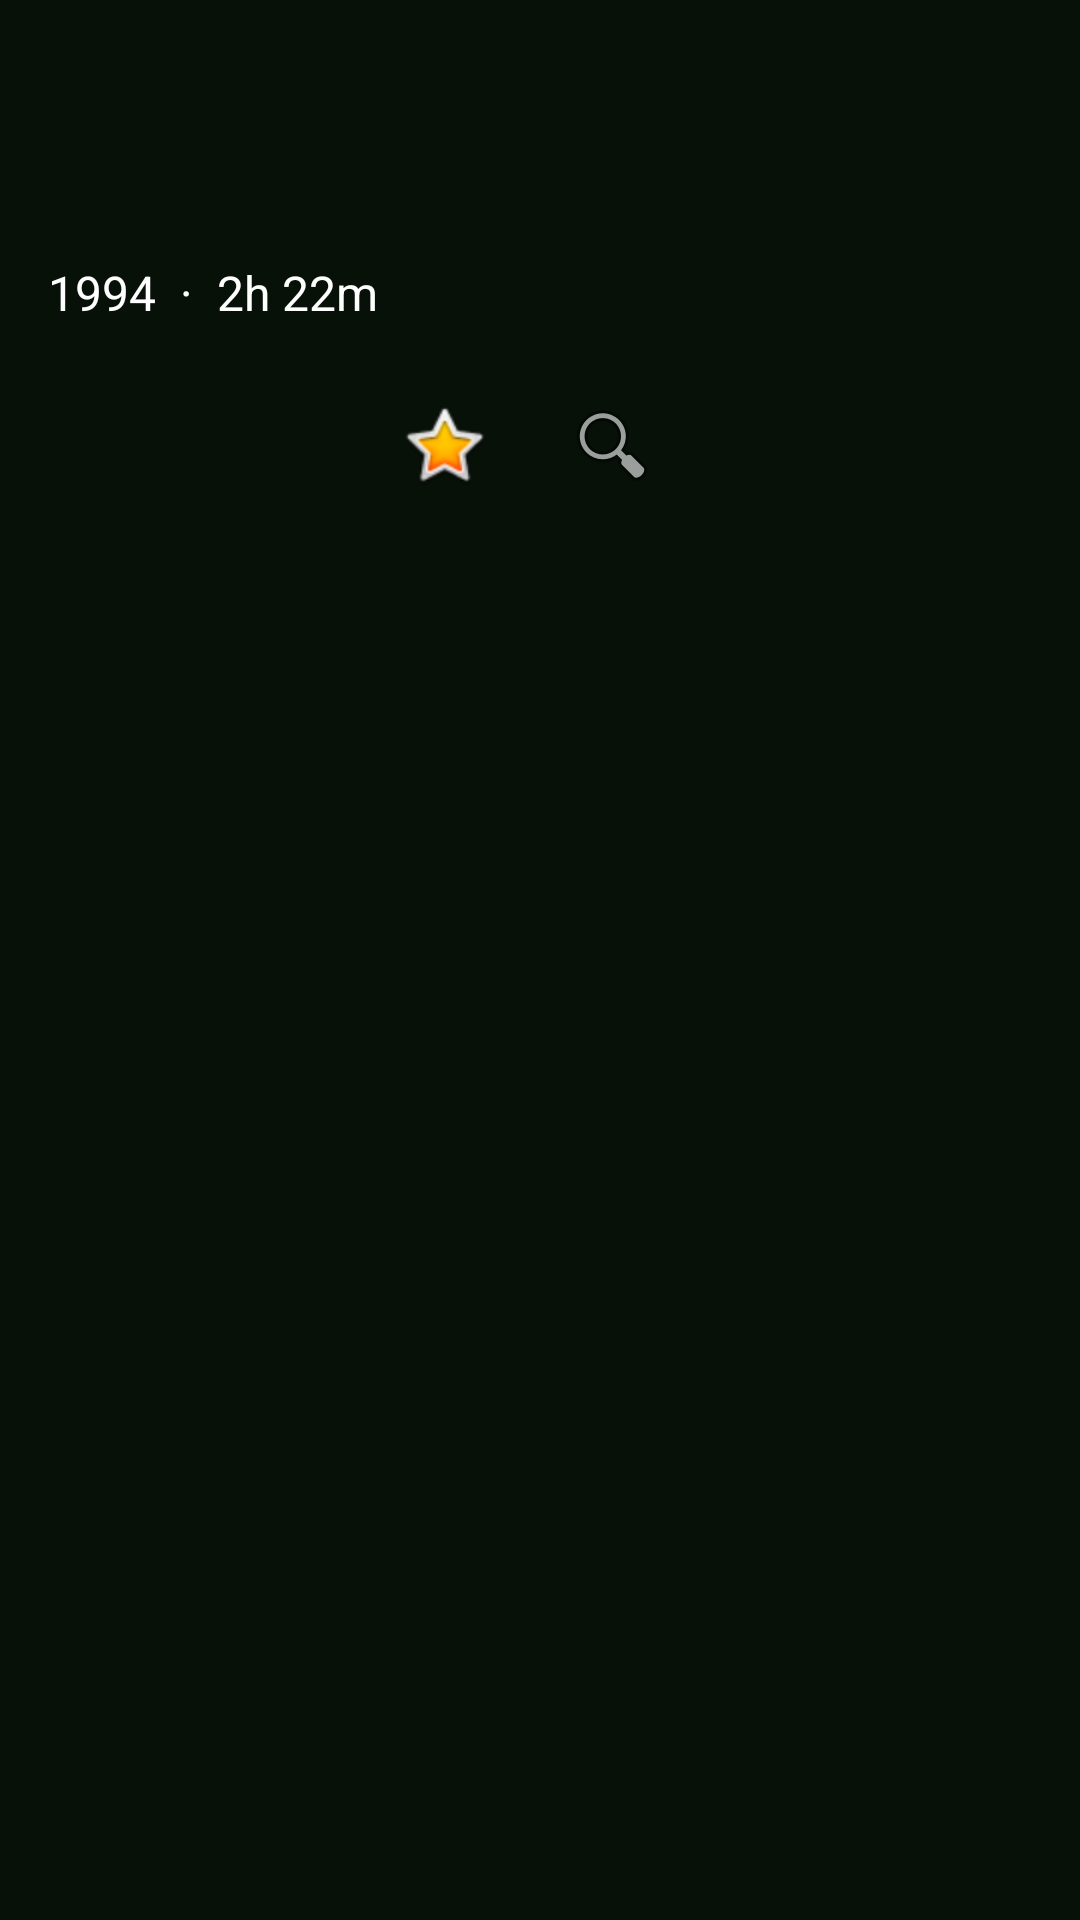

Icon click points for this 1080*1920 phone screenshot, format (x,y):
search: (612,445)
star on: (444,444)
